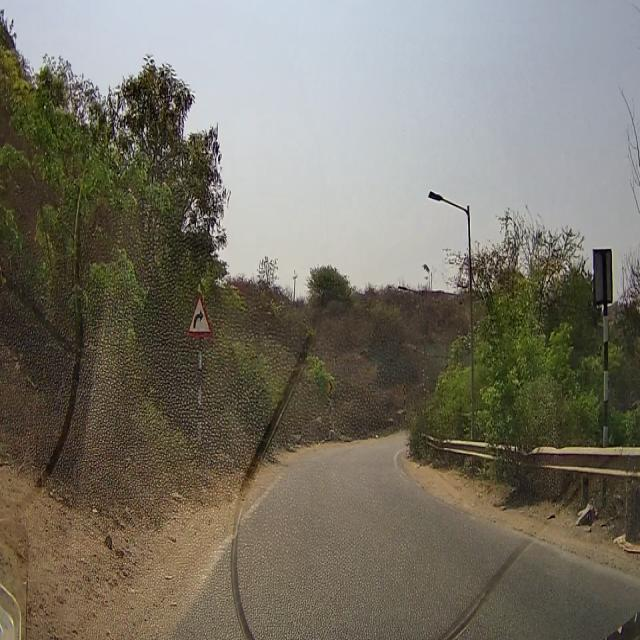right-hand-curve: (189, 294, 212, 335)
